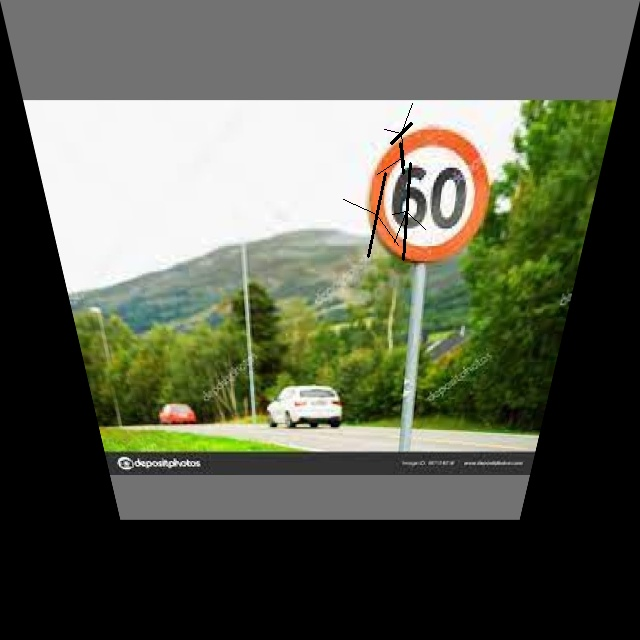Speed_Limit_60: (365, 123, 499, 260)
